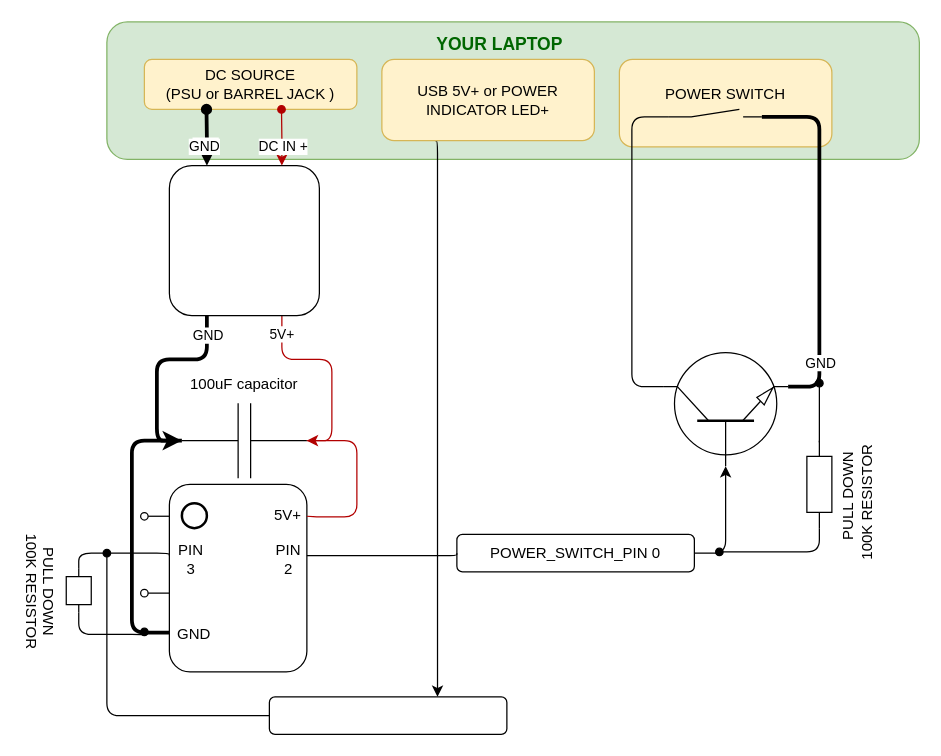
Some shapes in this 941 by 756 pixel diagram are drawn without their labels. Each missing label, with the box of its shape:
DC/DC STEP DOWN VOLTAGE CONVERTER: (168, 164, 319, 316)
POWER_STATUS_PIN 4: (268, 696, 507, 734)
